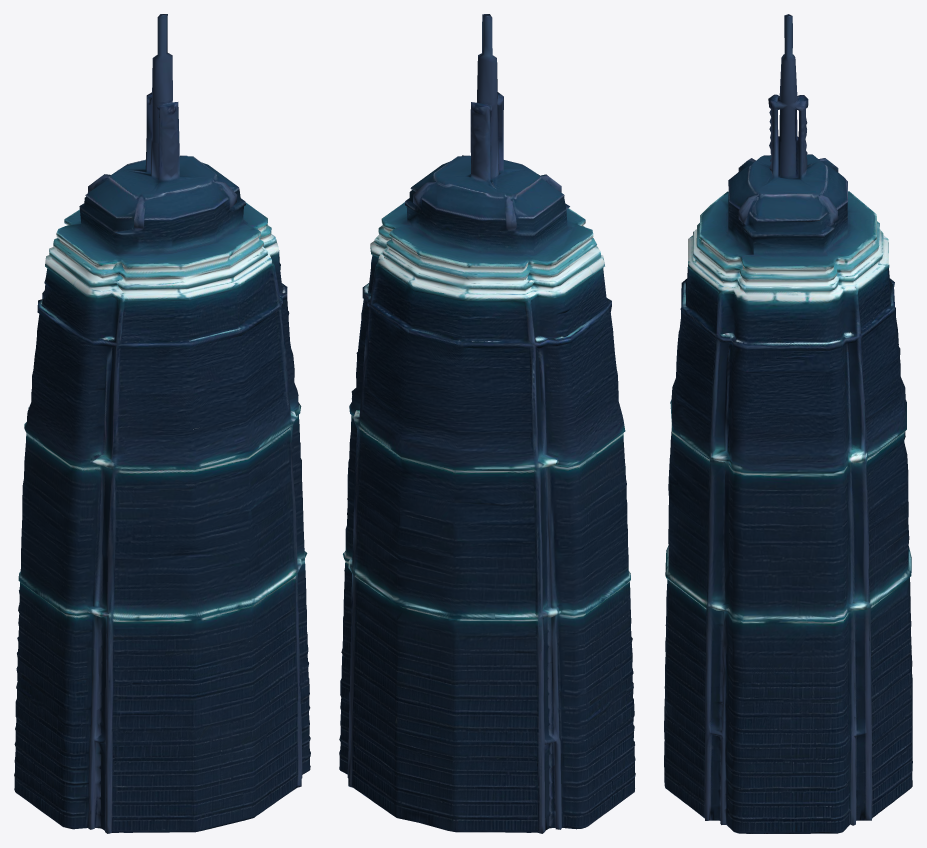
The model's file is building-a.glb.
The picture shows the model from 3 angles, left to right: view 1: azimuth 30°, elevation 25°; view 2: azimuth 150°, elevation 25°; view 3: azimuth 270°, elevation 25°; orthographic projection.
Parts seen in each view (by area): view 1: tripo_node_626aceee-bae5-4b47-ade7-fccbfaed44de; view 2: tripo_node_626aceee-bae5-4b47-ade7-fccbfaed44de; view 3: tripo_node_626aceee-bae5-4b47-ade7-fccbfaed44de.
Part boxes in pixels (x1,y1,x2,y2): tripo_node_626aceee-bae5-4b47-ade7-fccbfaed44de: [14, 14, 310, 833]; tripo_node_626aceee-bae5-4b47-ade7-fccbfaed44de: [339, 14, 635, 833]; tripo_node_626aceee-bae5-4b47-ade7-fccbfaed44de: [664, 14, 912, 833].
Bounding box in the file's own units: 0.3404 × 1 × 0.2974.
1 material, 1 textured.
